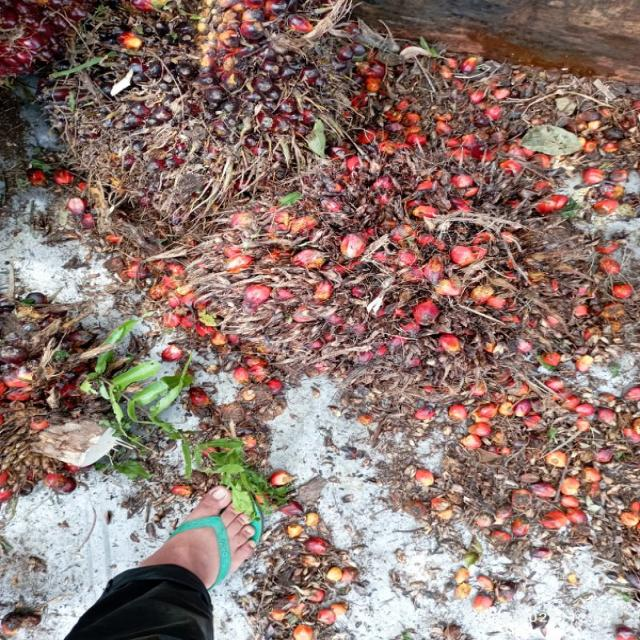fraksi 00: (54, 0, 400, 226)
fraksi 4: (189, 130, 558, 384)
